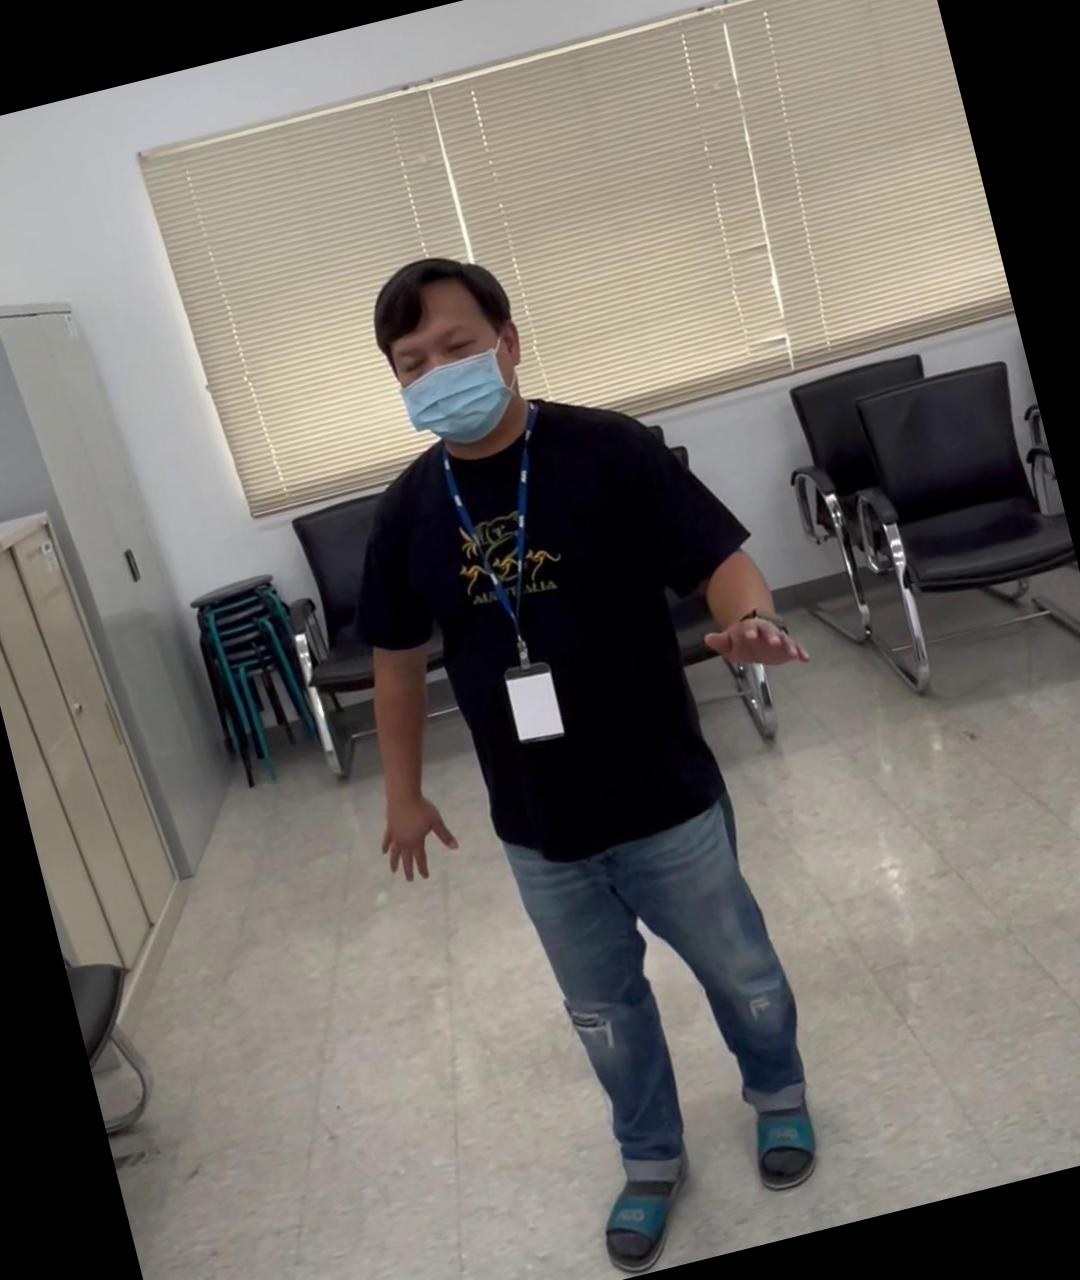No-gloves: (360, 772, 463, 892), (692, 588, 808, 693)
